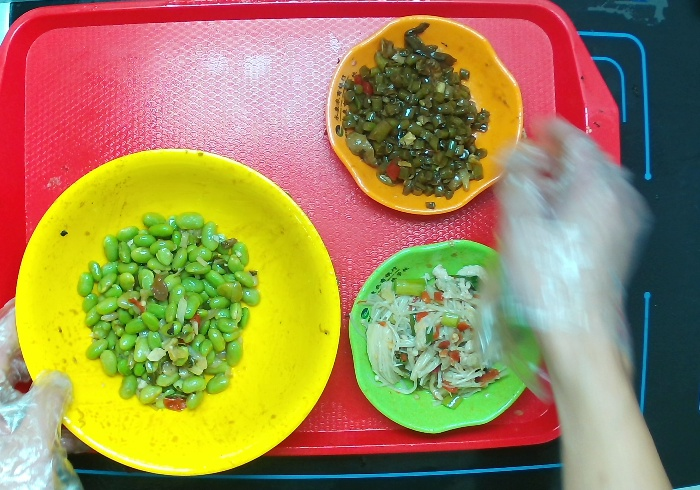YKMZ-Huang_Se_Tang_Wan: (14, 151, 355, 490)
YKMZ-Ju_Se_Ao_Bian_Wan: (326, 14, 528, 228)
YKMZ-Lv_Se_Ao_Bian_Wan: (346, 240, 541, 432)
